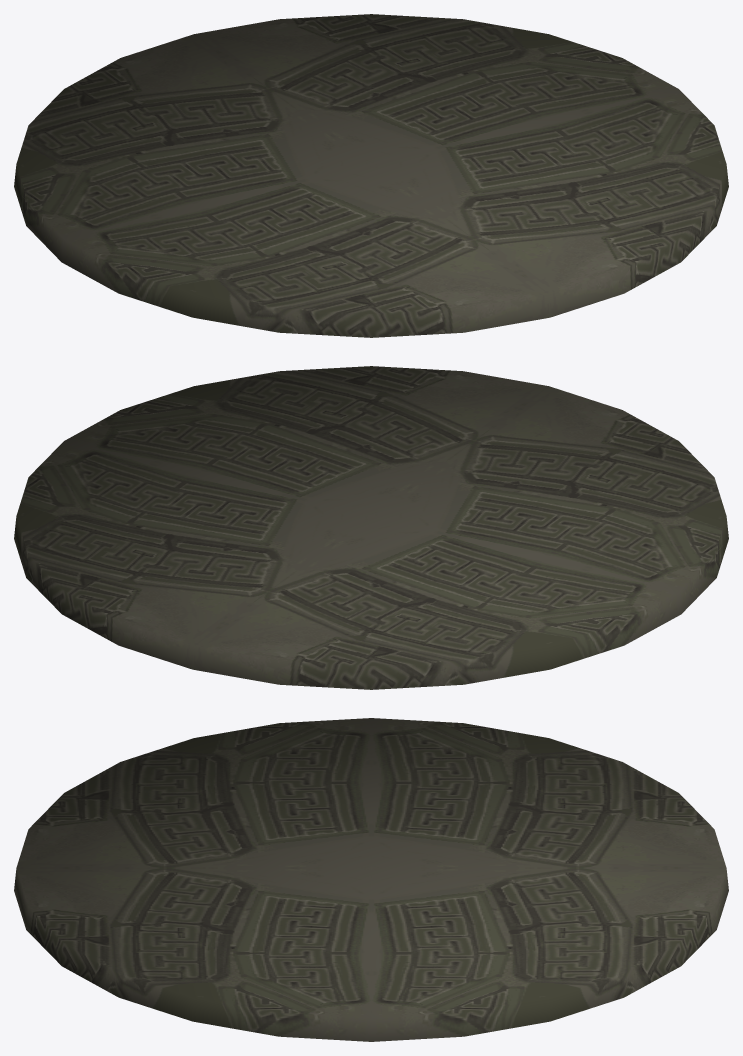
File: sn_longmai_yuantai_001.FBX
3 views of the same model, one above another, from view 1: azimuth 30°, elevation 25°; view 2: azimuth 150°, elevation 25°; view 3: azimuth 270°, elevation 25° (orthographic).
Visible parts, largest first — view 1: sn_longmai_yuantai_001; view 2: sn_longmai_yuantai_001; view 3: sn_longmai_yuantai_001.
Boxes of the visible parts, bbox=[...] form: sn_longmai_yuantai_001: bbox=[14, 14, 728, 337]; sn_longmai_yuantai_001: bbox=[14, 366, 728, 689]; sn_longmai_yuantai_001: bbox=[14, 718, 728, 1041].
Bounding box in the file's own units: 401 × 14.02 × 401.
